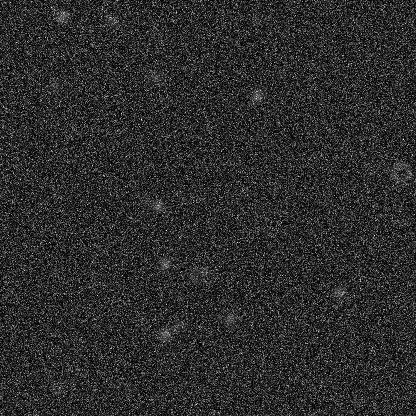Ring: (388, 160, 412, 184)
Spot: (272, 67, 288, 83), (157, 256, 173, 272), (156, 326, 172, 342), (249, 86, 265, 102), (149, 198, 165, 214), (247, 7, 263, 23), (49, 380, 65, 396), (375, 46, 391, 62), (54, 8, 70, 24), (146, 70, 162, 86), (330, 284, 346, 300), (171, 317, 187, 333), (191, 382, 207, 398), (221, 310, 237, 326), (103, 12, 119, 28), (184, 266, 200, 282), (195, 263, 211, 279), (46, 78, 62, 94), (138, 192, 154, 208)
